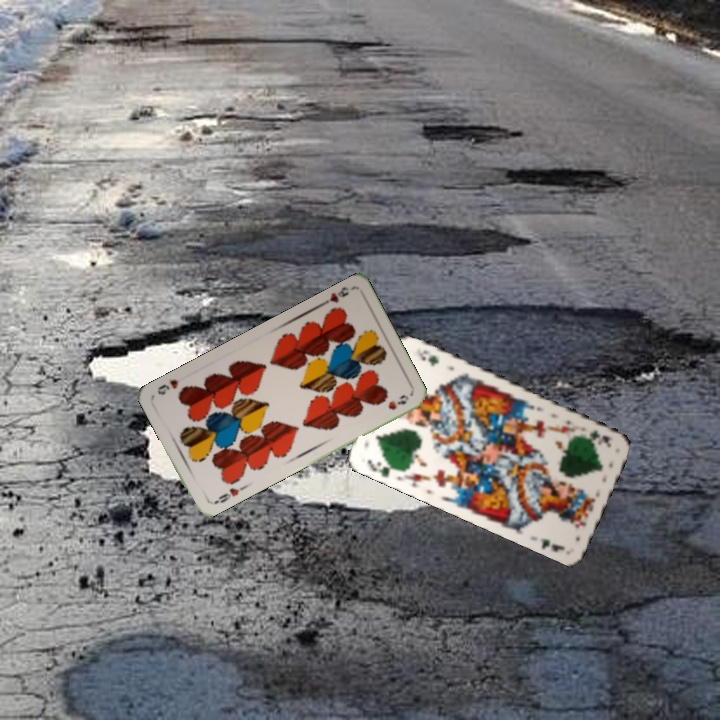GK: (364, 455, 398, 480), (585, 425, 615, 448)
H9: (317, 282, 355, 308), (210, 482, 247, 507)
